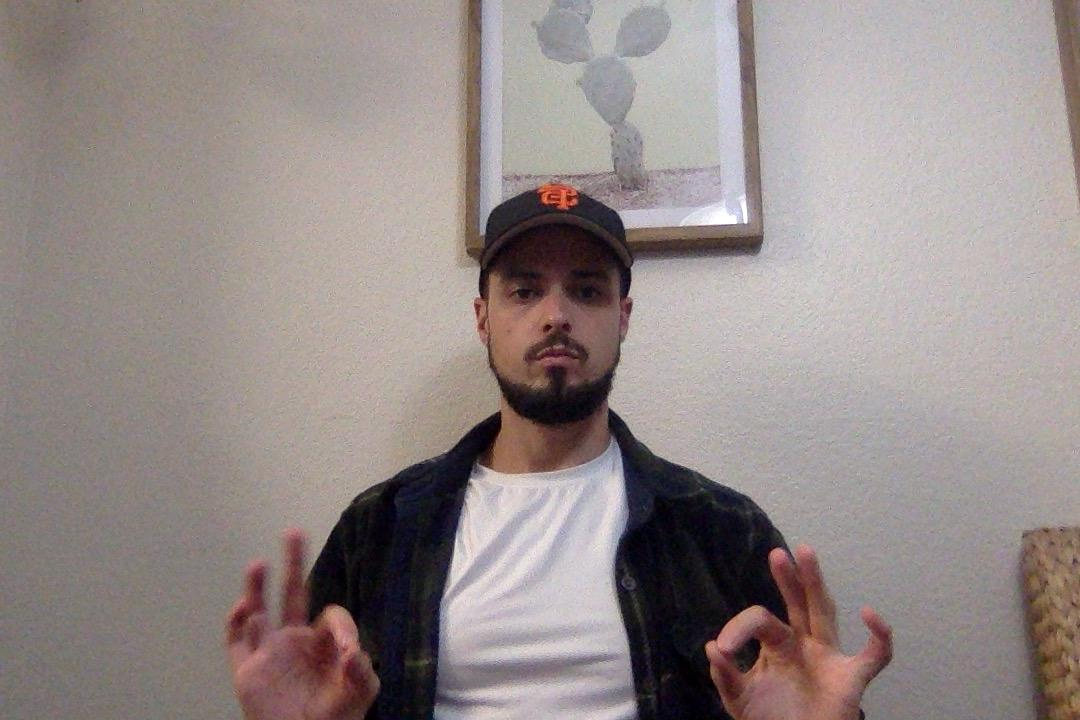Okay: (210, 527, 378, 720), (698, 548, 884, 720)
